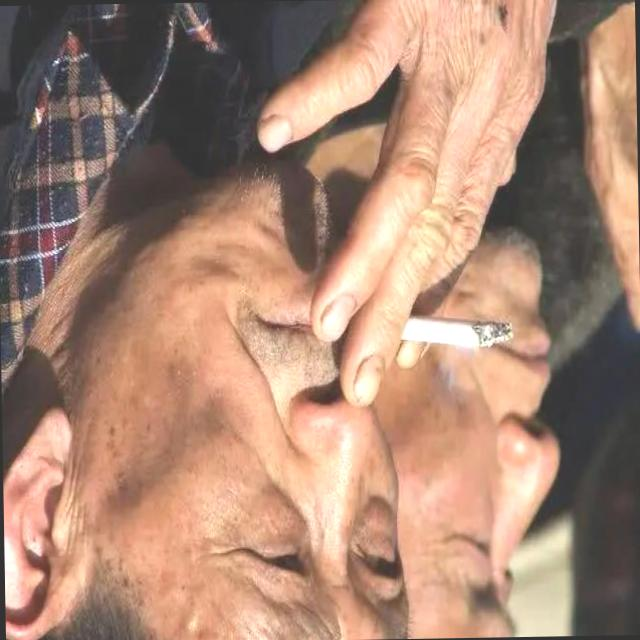cigarette: (339, 264, 531, 408)
